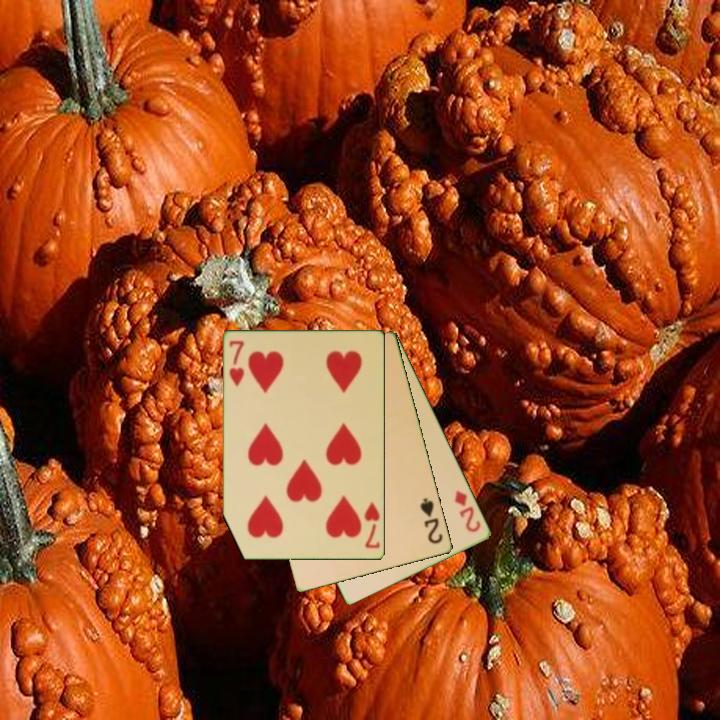2d: (451, 487, 484, 535)
2s: (417, 494, 446, 547)
7h: (226, 337, 248, 390), (361, 499, 383, 551)
